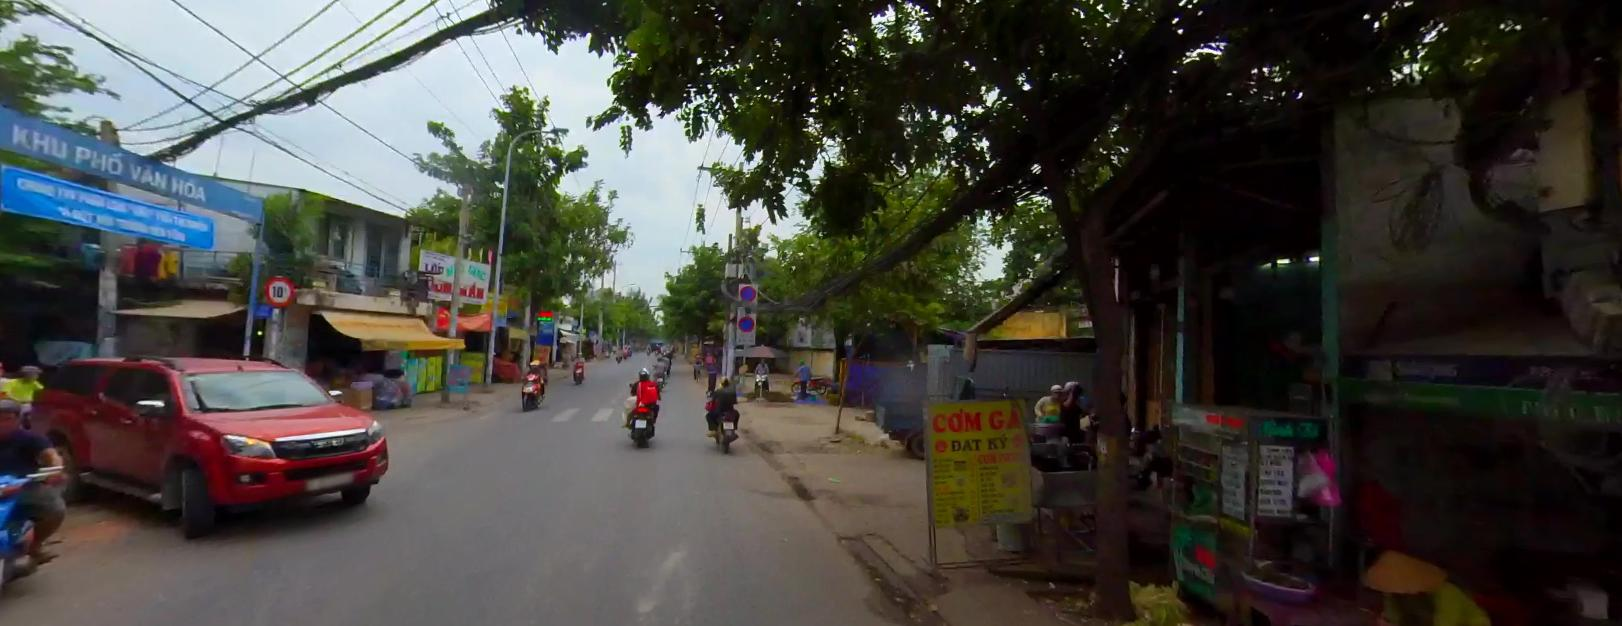Cam con lai: (737, 312, 754, 331), (739, 282, 755, 301)
Gioi han toc do: (262, 271, 294, 306)
